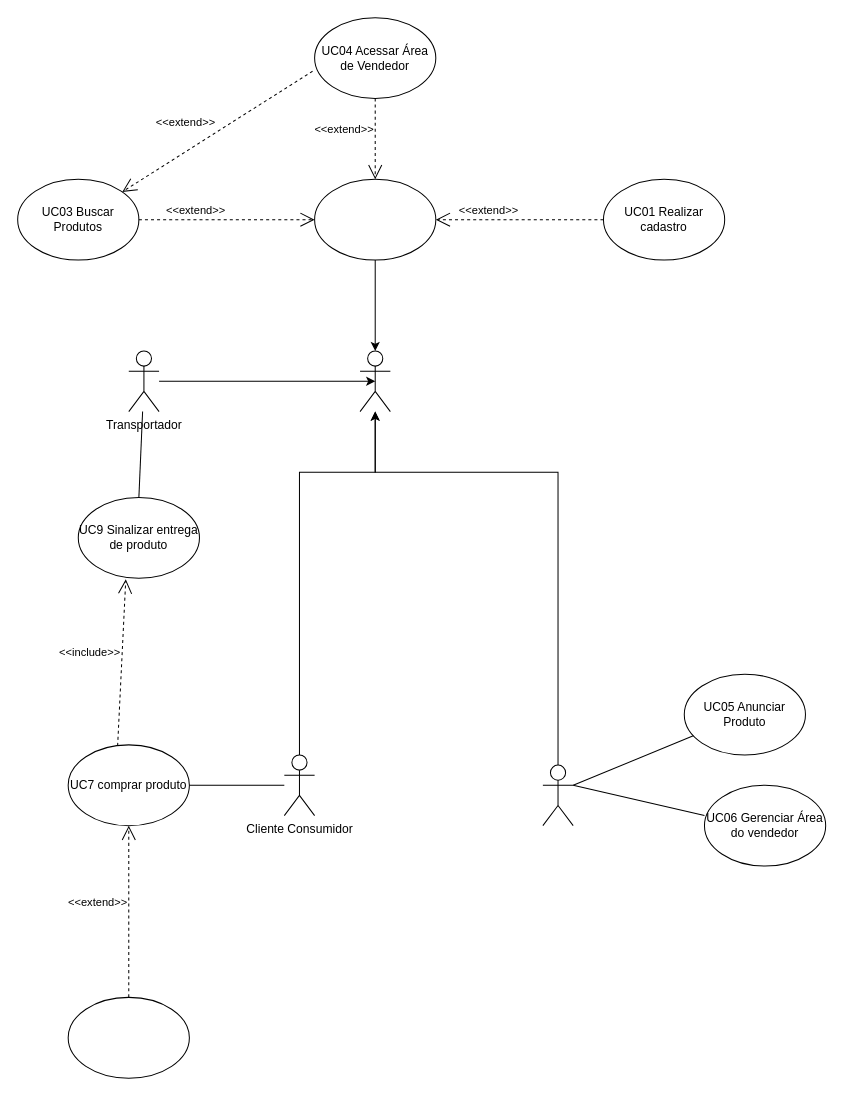
The diagram is 843 pixels wide and 1096 high, and some of its shapes have lost their labels. The shapes that lost their labels are listed below. From the top down, each one's centre as x and y in pixels, then its label:
At pixel 375 219: "UC02 Realizar login".
At pixel 374 381: "Usuario".
At pixel 557 795: "Cliente Vendedor".
At pixel 128 1037: "UC8 Avaliar produto".
